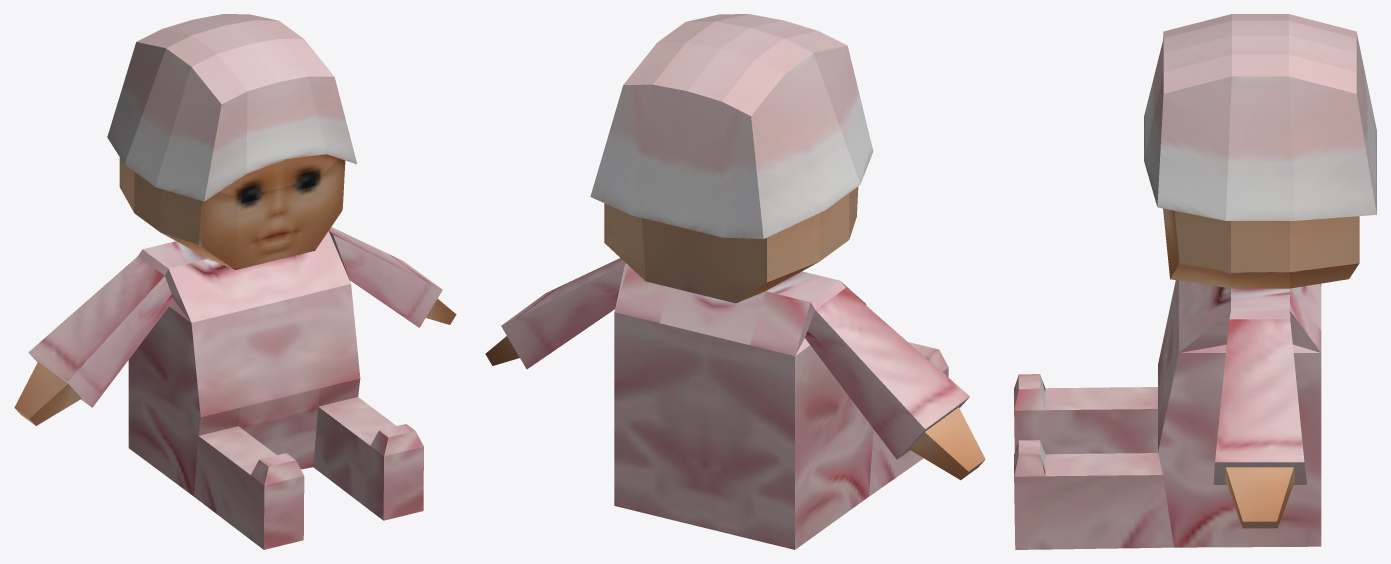
The model's file is Doll.fbx.
The picture shows the model from 3 angles, left to right: view 1: azimuth 30°, elevation 25°; view 2: azimuth 150°, elevation 25°; view 3: azimuth 270°, elevation 25°; orthographic projection. The views are drawn at different scales.
Parts seen in each view (by area): view 1: Cube; view 2: Cube; view 3: Cube.
Part boxes in pixels (<box>): Cube: <box>14,14,456,549</box>; Cube: <box>485,14,985,549</box>; Cube: <box>1014,14,1376,549</box>.
Size of the model in its own units: 535 by 498 by 348.
Materials: 1 (1 with a texture image).
